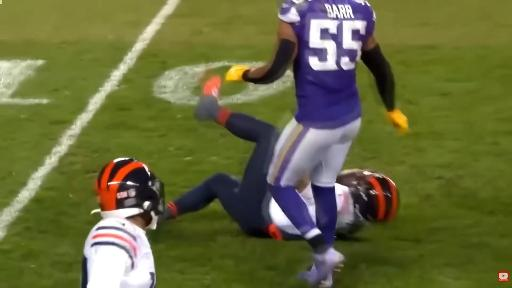Helmet: (95, 158, 164, 229), (337, 170, 399, 221)
Jersey: (279, 0, 375, 128), (82, 218, 155, 287), (335, 184, 357, 233)
Player: (227, 0, 407, 285), (166, 76, 301, 239), (82, 158, 164, 287)
